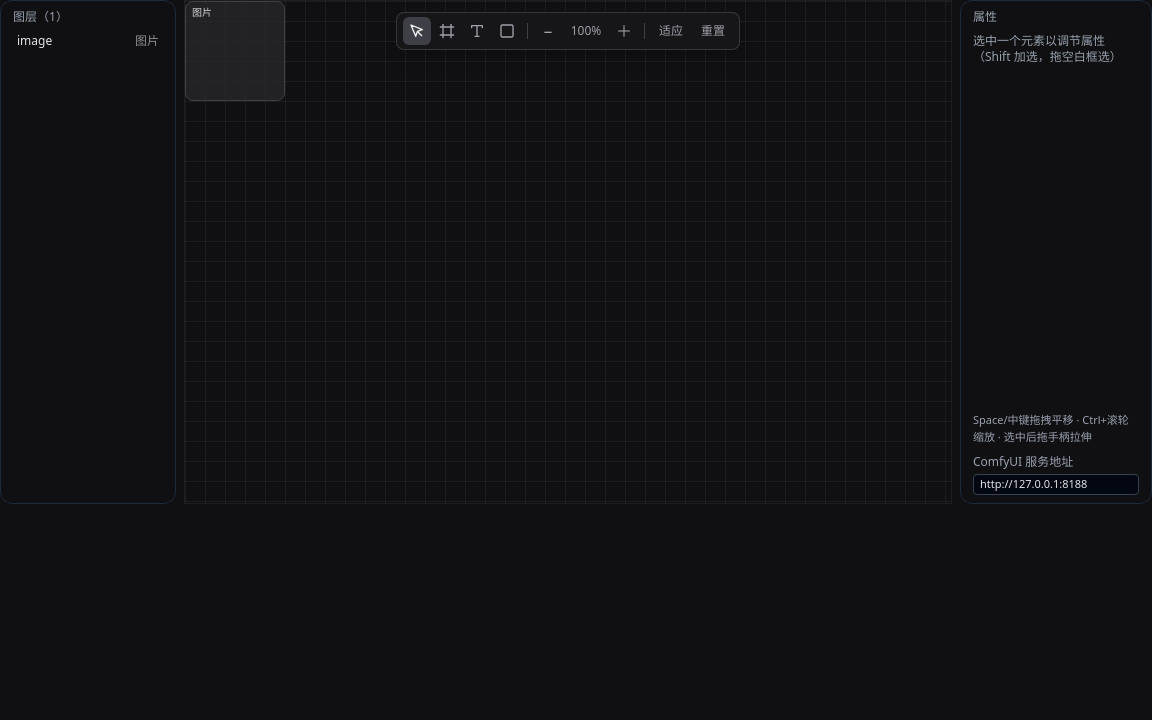
it: CanvasViewport 交互（jsdom） › 删除按钮移除选中节点
Click the button "image 图片": x=88, y=41 x1=9 y1=29 x2=167 y2=53
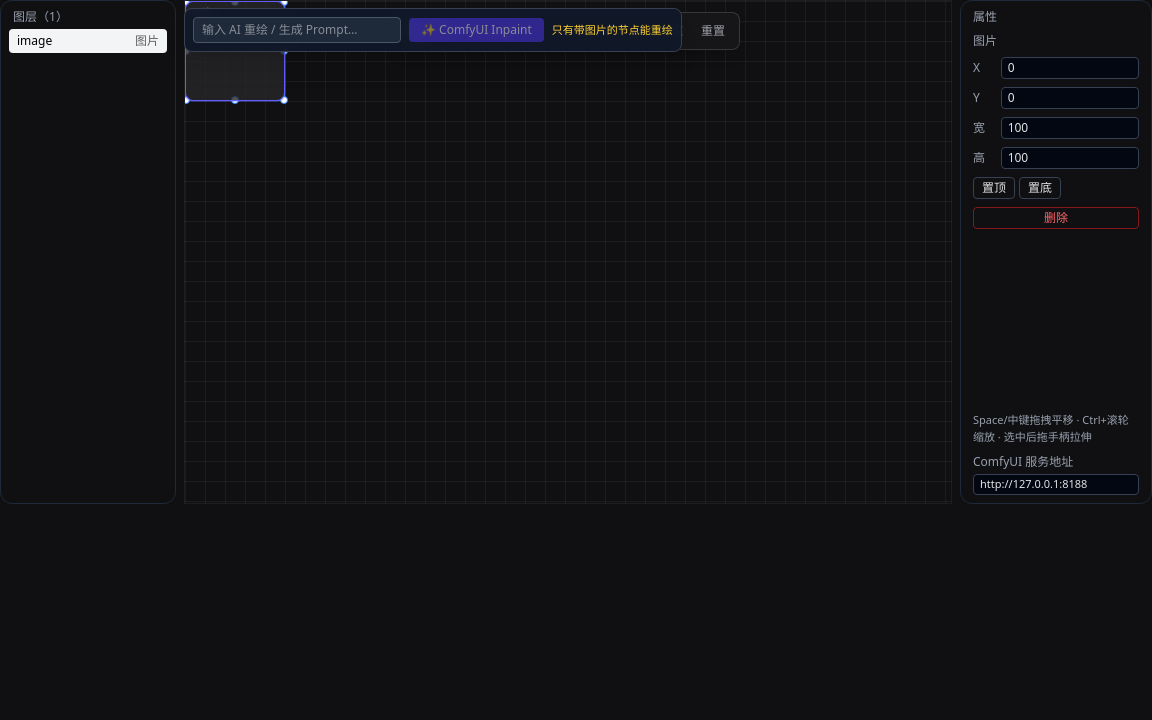
Check: the element showing "图片" is shown, box x1=185 y1=1 x2=285 y2=101
Click the button "删除": x=1056, y=218 x1=973 y1=207 x2=1139 y2=229
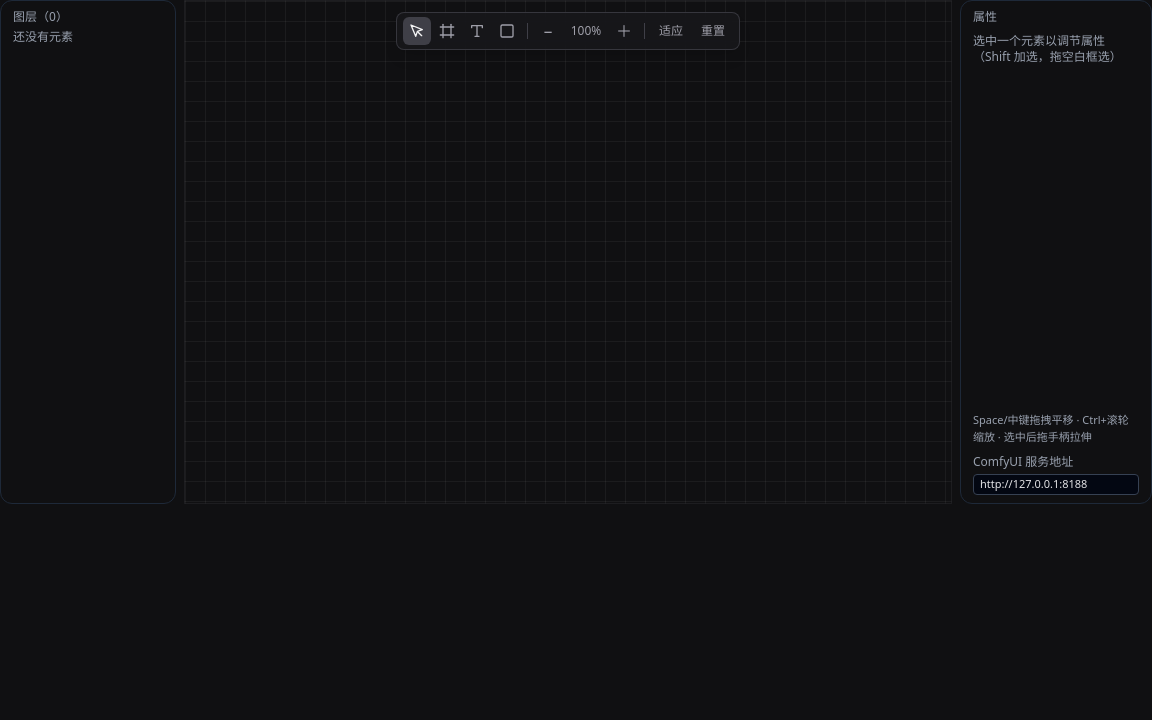
Check: the text "图层（0）" is shown, box x1=13 y1=8 x2=68 y2=25
